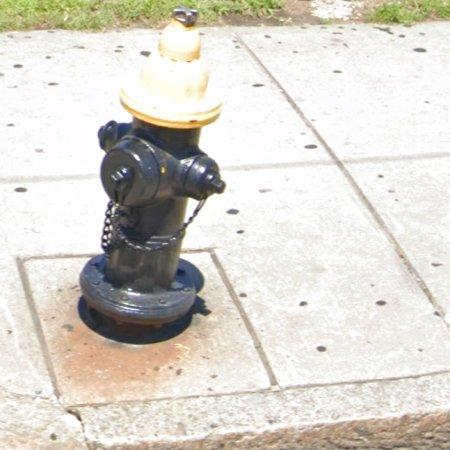a fire hydrant: (80, 7, 226, 336)
